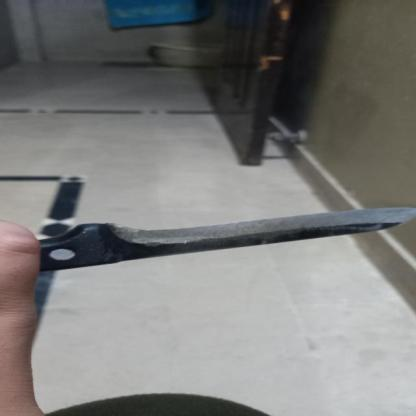Knife: (0, 205, 413, 271)
